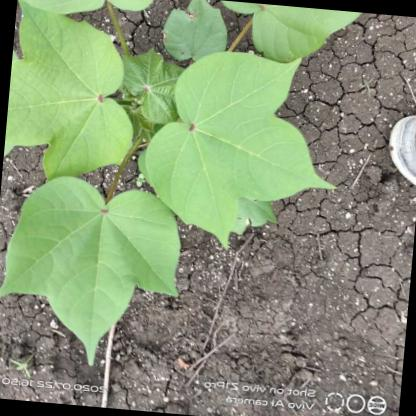cotton: (134, 42, 353, 263), (0, 172, 192, 373), (3, 3, 140, 179)
